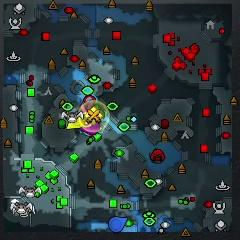Other: (85, 106, 103, 126)
p1: (108, 216, 128, 232)
p3: (81, 123, 100, 134)
p4: (67, 115, 83, 130)
x1: (81, 100, 92, 112)
x4: (93, 104, 105, 118)
